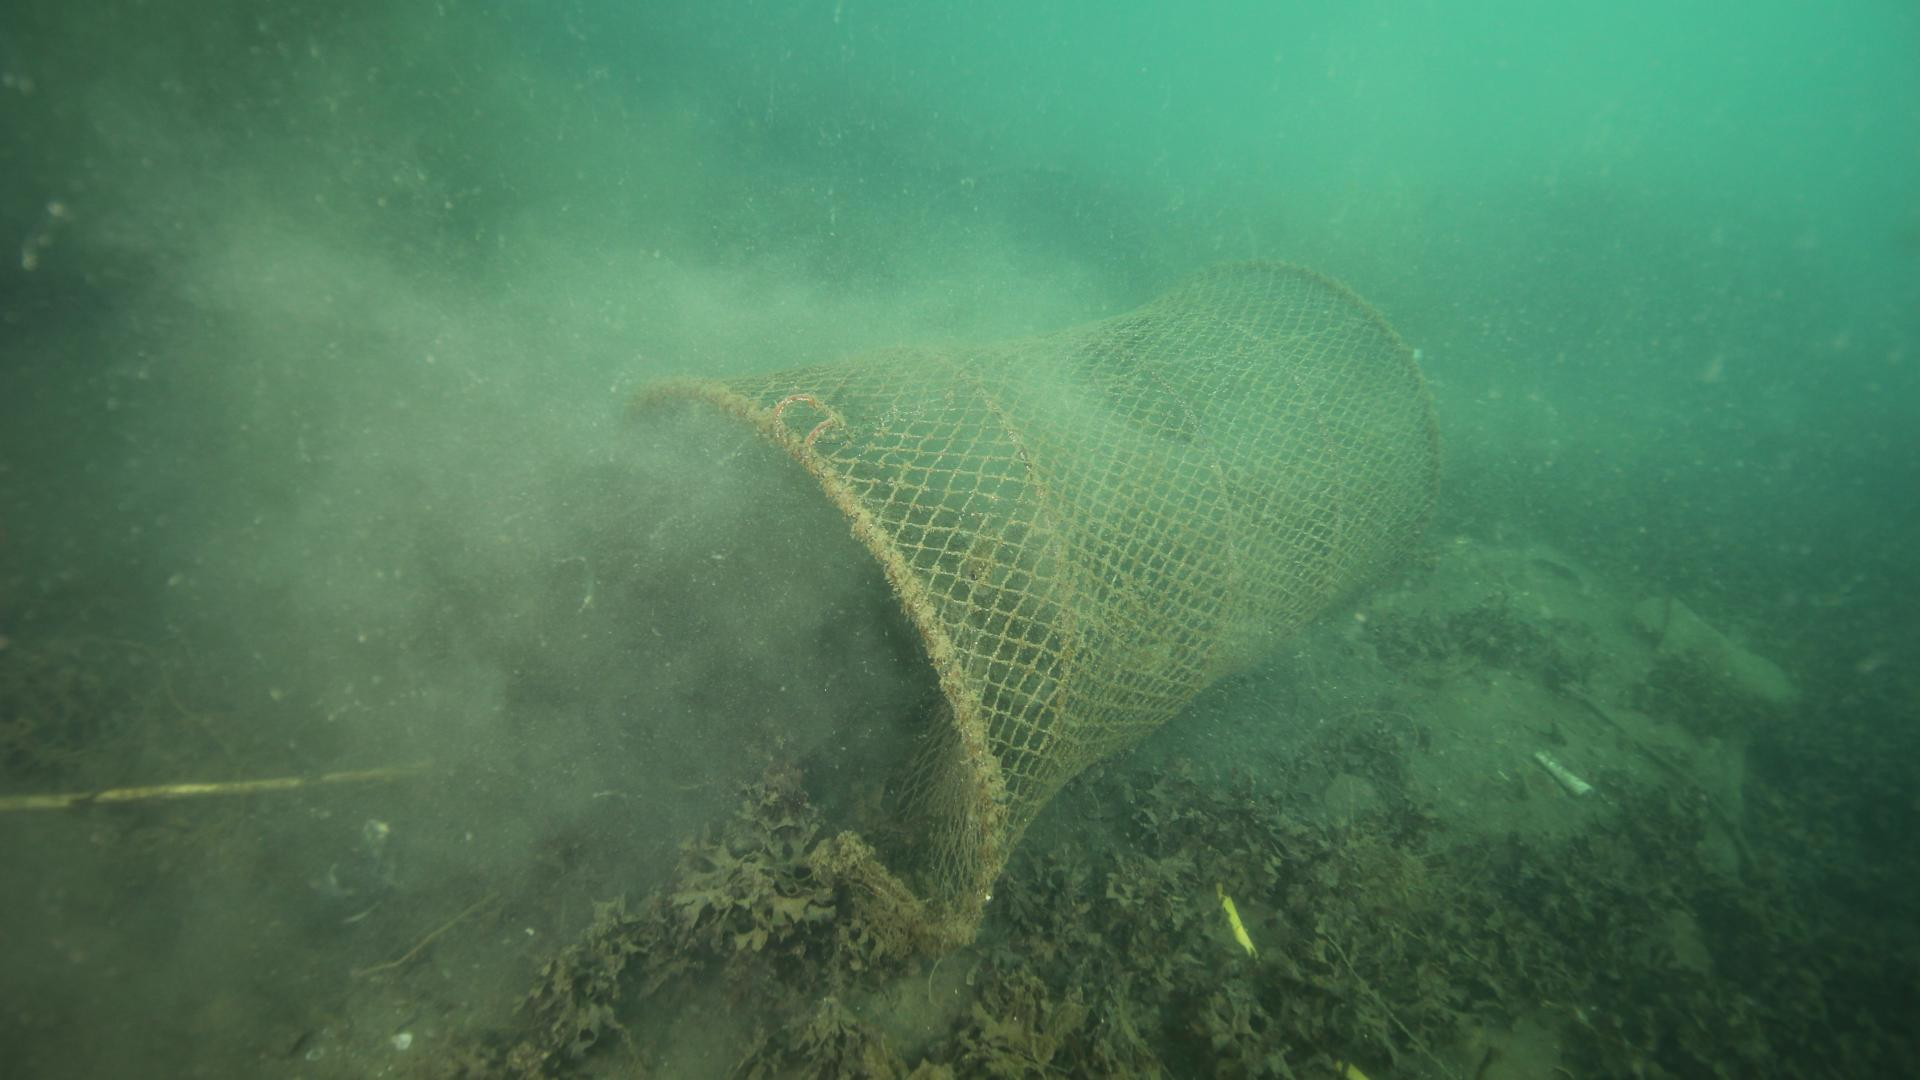spring fish trap: (582, 258, 1443, 951)
